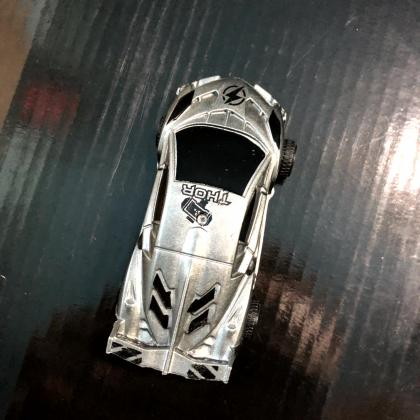Car: (104, 76, 294, 385)
